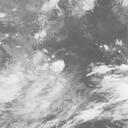cyclone: (27, 47, 70, 92)
